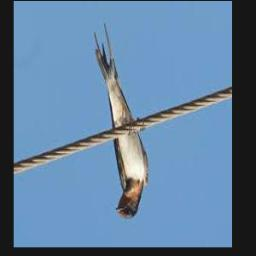Swallow: (94, 24, 148, 219)
